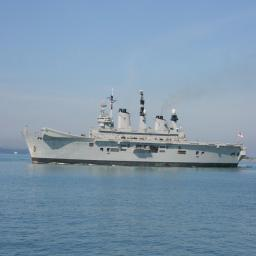Portanaves: (20, 88, 250, 170)
